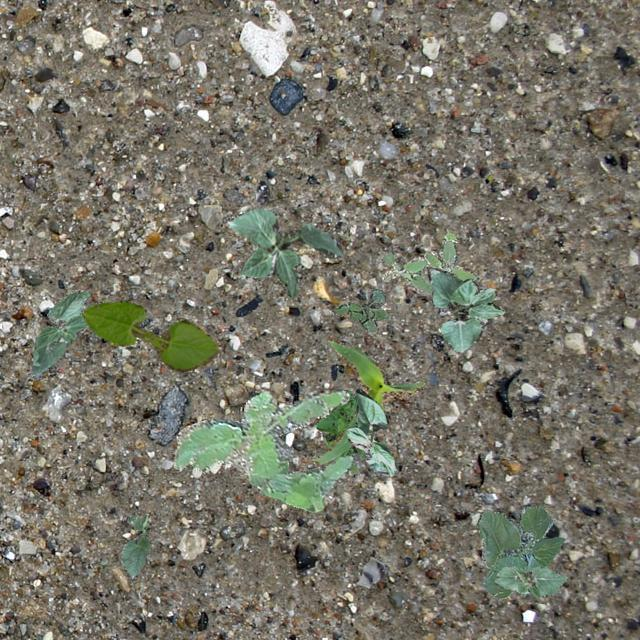crop: (310, 334, 424, 464), (225, 206, 342, 298), (80, 300, 218, 370), (476, 504, 564, 598), (428, 266, 507, 352), (31, 288, 88, 378), (344, 388, 396, 476), (494, 564, 566, 598), (120, 512, 150, 580)
weed: (172, 389, 360, 512), (382, 232, 478, 294), (312, 389, 364, 472), (332, 288, 389, 332)
